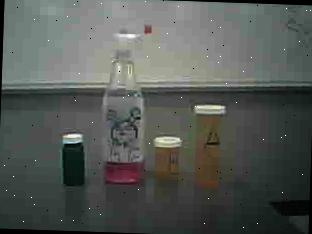Bottle A: (181, 99, 237, 197)
Bottle B: (148, 130, 184, 186)
Bottle C: (55, 127, 92, 188)
hazard: (88, 13, 156, 190)
